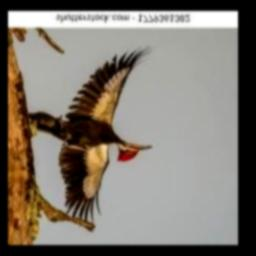Woodpecker: (26, 44, 155, 224)
